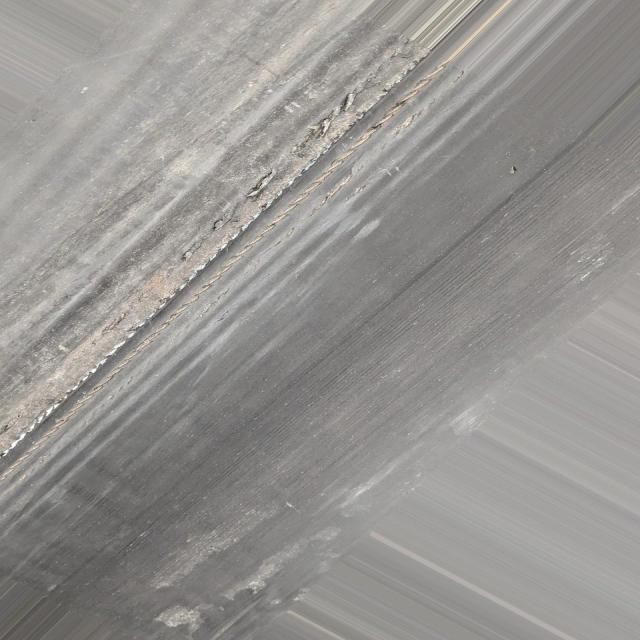impact damage: (0, 24, 440, 465)
